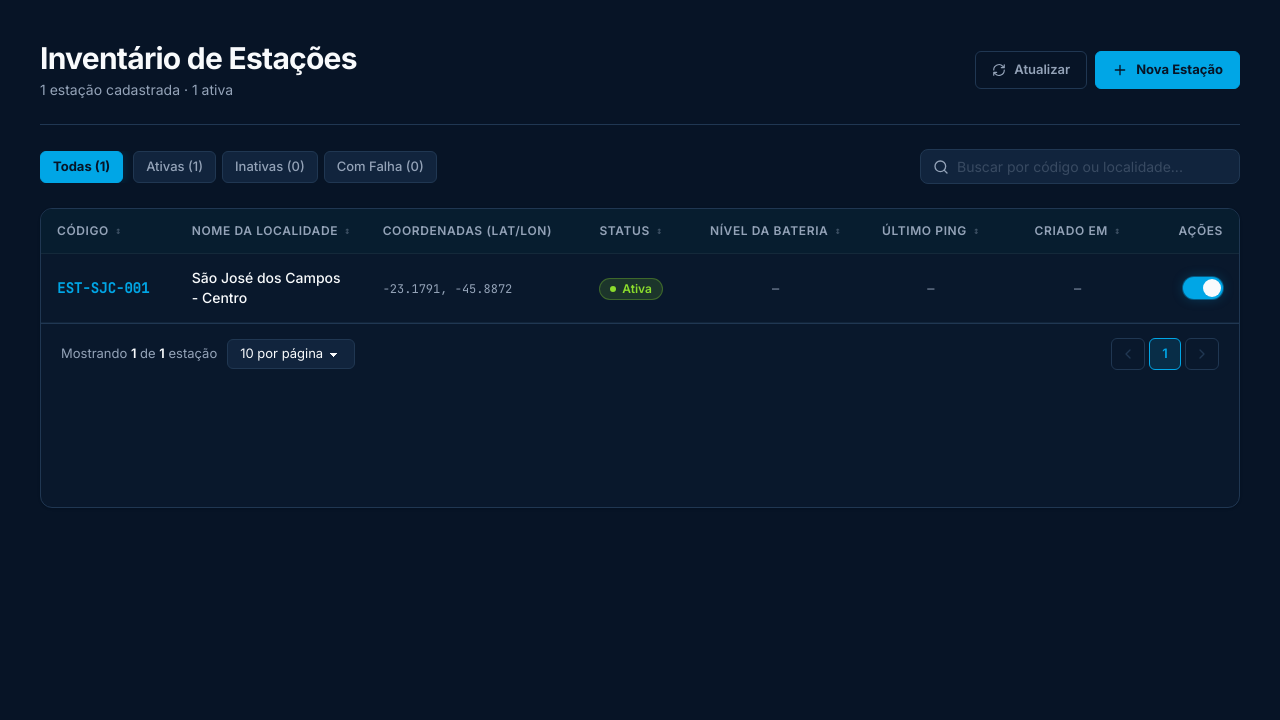
Componente Stations - Casos de Uso BDD / Gherkin › Cenário 2: Tentativa de cadastro com código identificador já existente
Click the button with aria-label "+ Nova Estação" at (1168,70), box [1095, 51, 1240, 89]
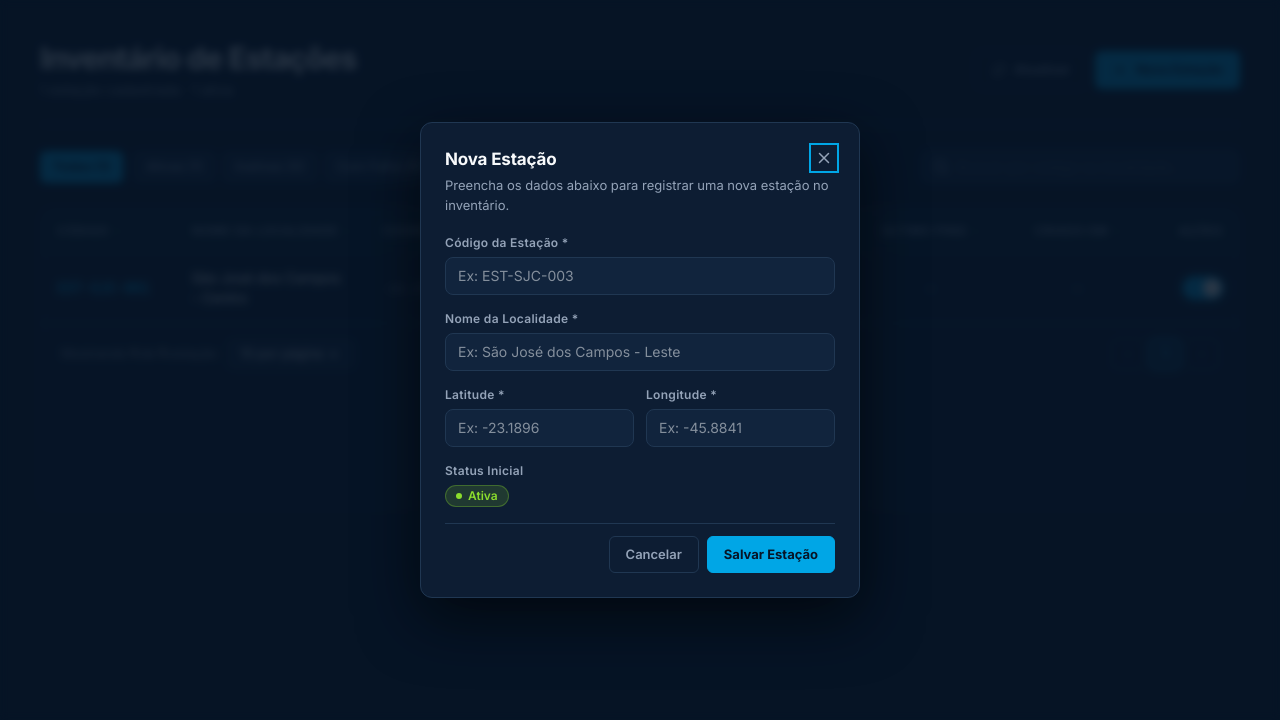
Type "EST-SJC-001" into the field labelled "Código da Estação *" at (640,276), box [445, 257, 835, 295]
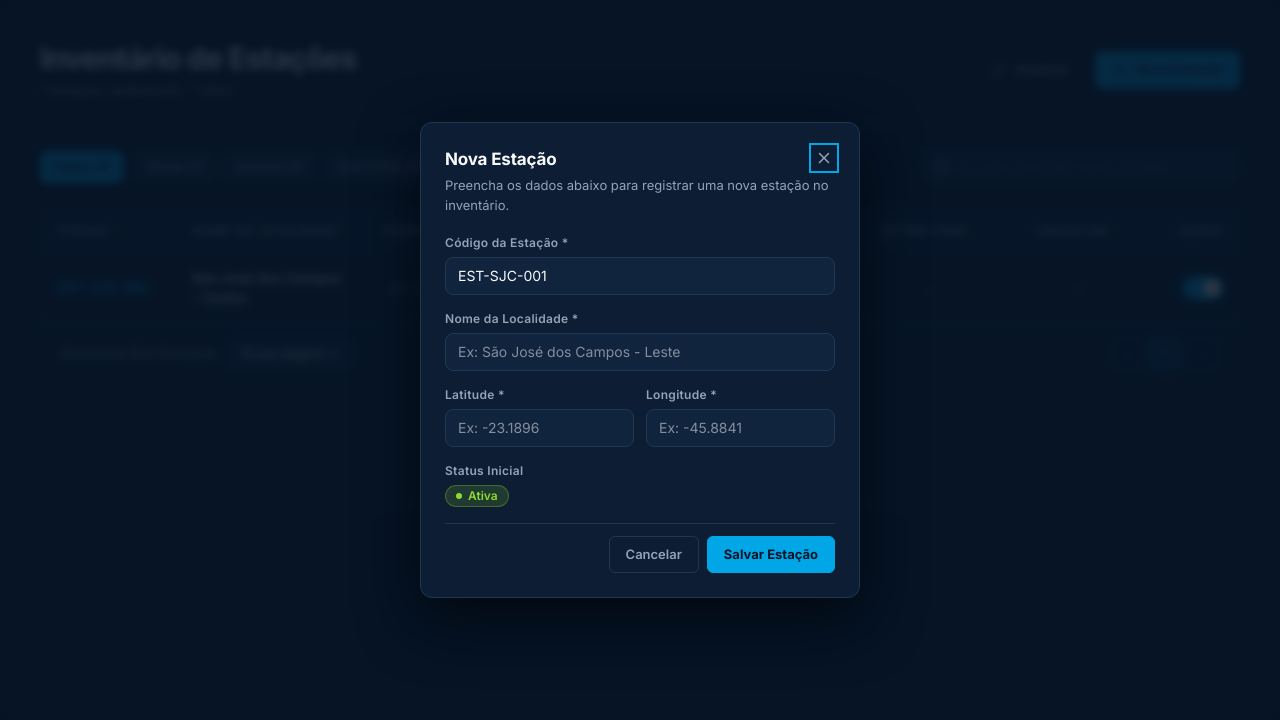
Type "Localidade Qualquer" into the field labelled "Nome da Localidade *" at (640,352), box [445, 333, 835, 371]
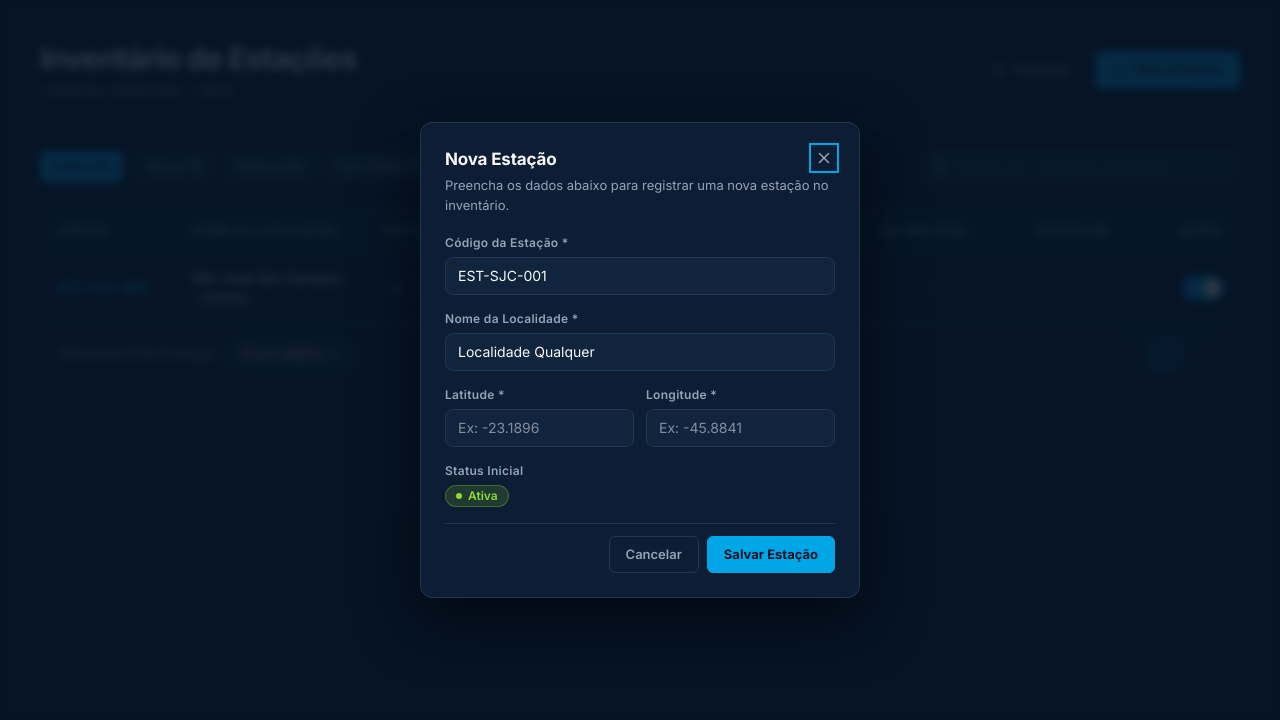
Type "-23.1534" into the number field labelled "Latitude *" at (540,428), box [445, 409, 634, 447]
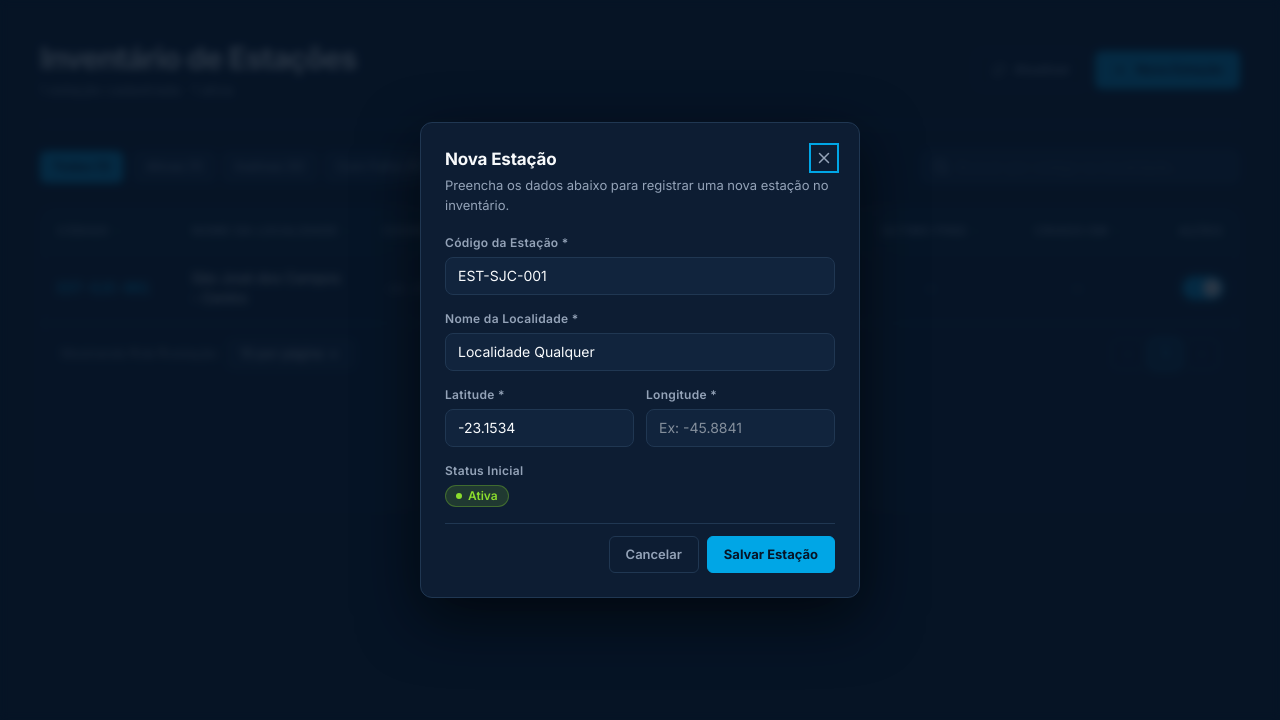
Type "-45.7922" into the number field labelled "Longitude *" at (740,428), box [646, 409, 835, 447]
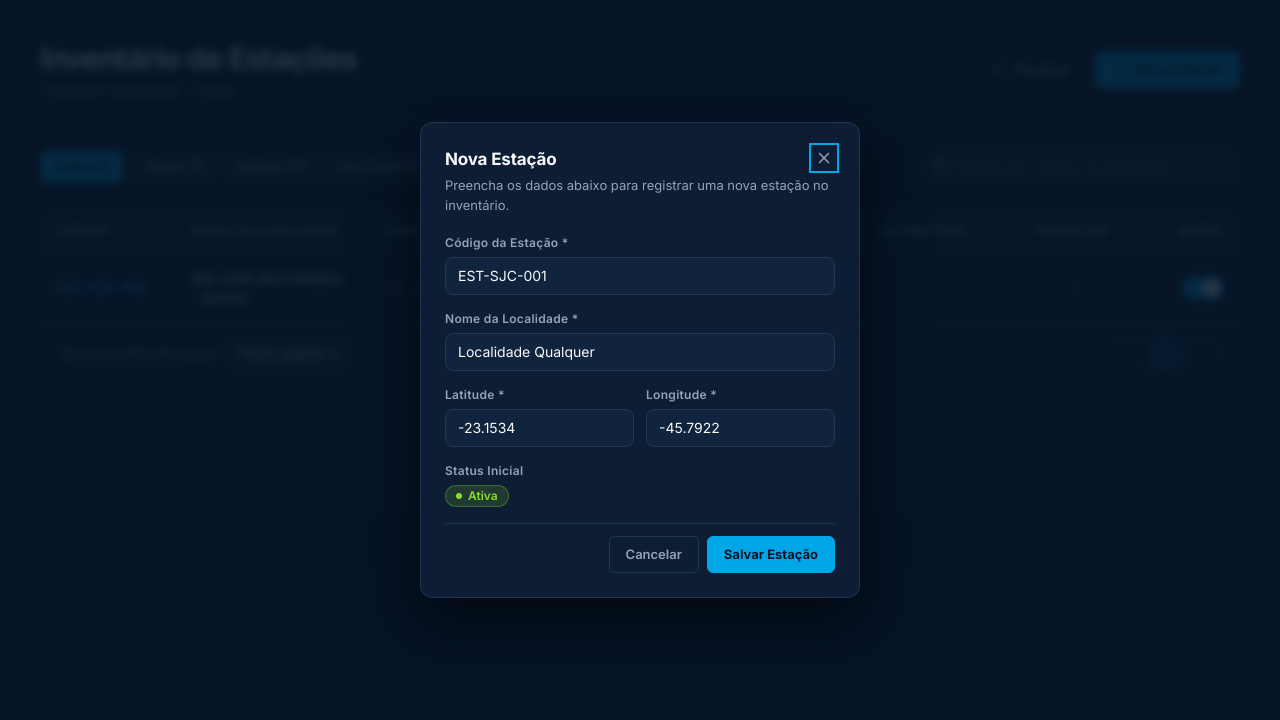
Click the button "Salvar Estação" at (771,555), box [707, 536, 835, 573]
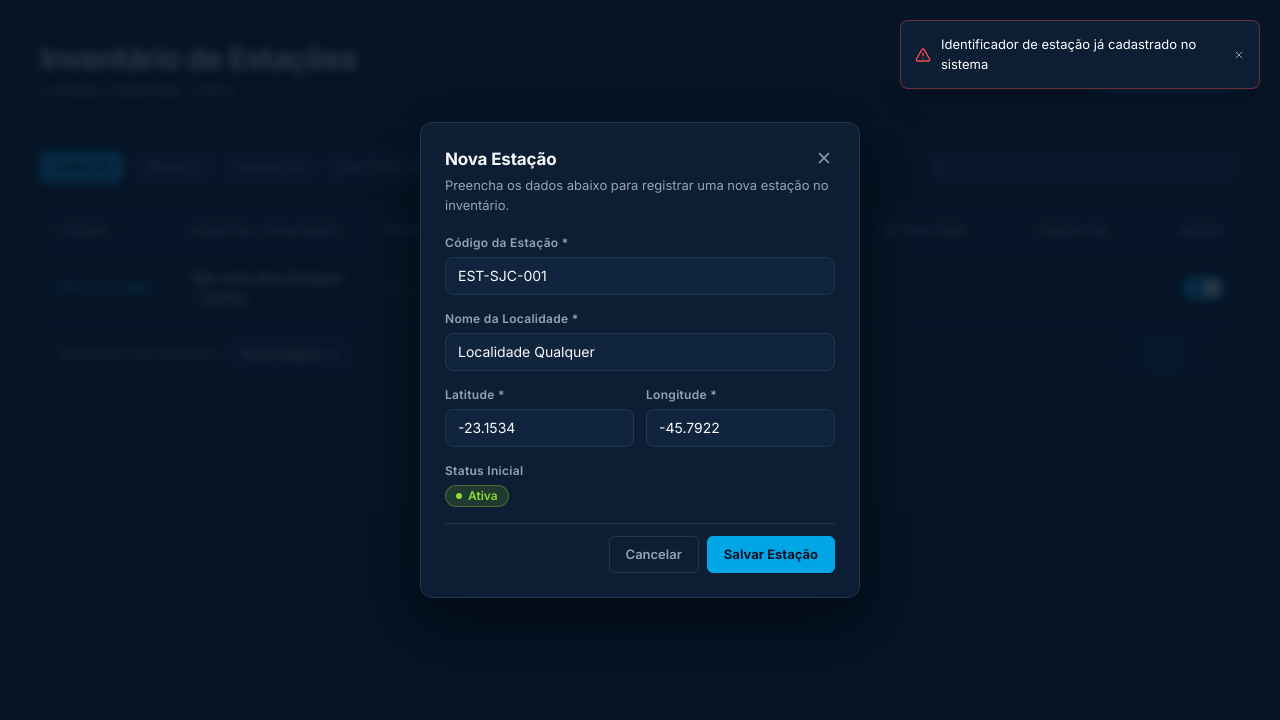
Check: the text "Identificador de estação já cadastrado no sistema" is shown, box [941, 35, 1223, 74]
Check: the message "Identificador de estação já cadastrado no sistema" is shown, box [900, 20, 1260, 89]
